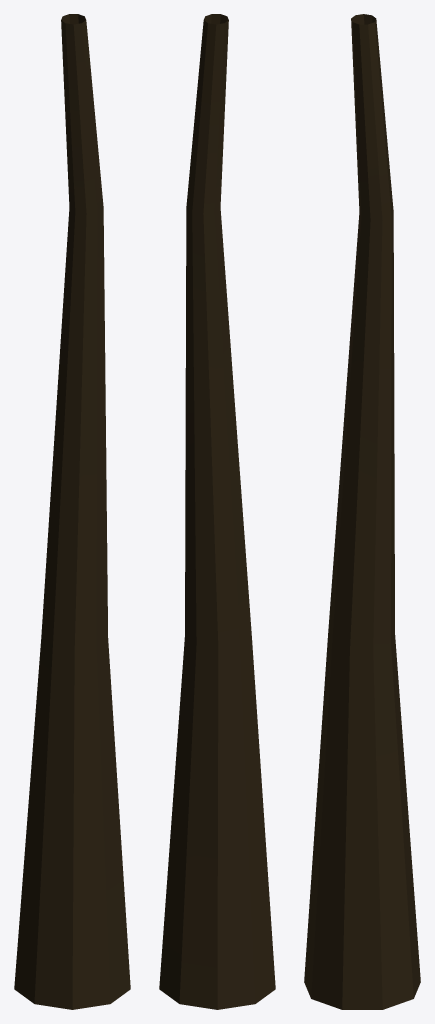
The model's file is Stump (1).fbx.
3 views of the same model, side by side, from view 1: azimuth 30°, elevation 25°; view 2: azimuth 150°, elevation 25°; view 3: azimuth 330°, elevation 25° (orthographic).
Parts seen in each view (by area): view 1: Tree; view 2: Tree; view 3: Tree.
Part boxes in pixels (box(x1,y1,x2,y2)): Tree: box(14, 14, 130, 1009); Tree: box(159, 14, 275, 1009); Tree: box(304, 14, 420, 1009).
Size of the model in its own units: 0.7167 by 6.65 by 0.7278.
